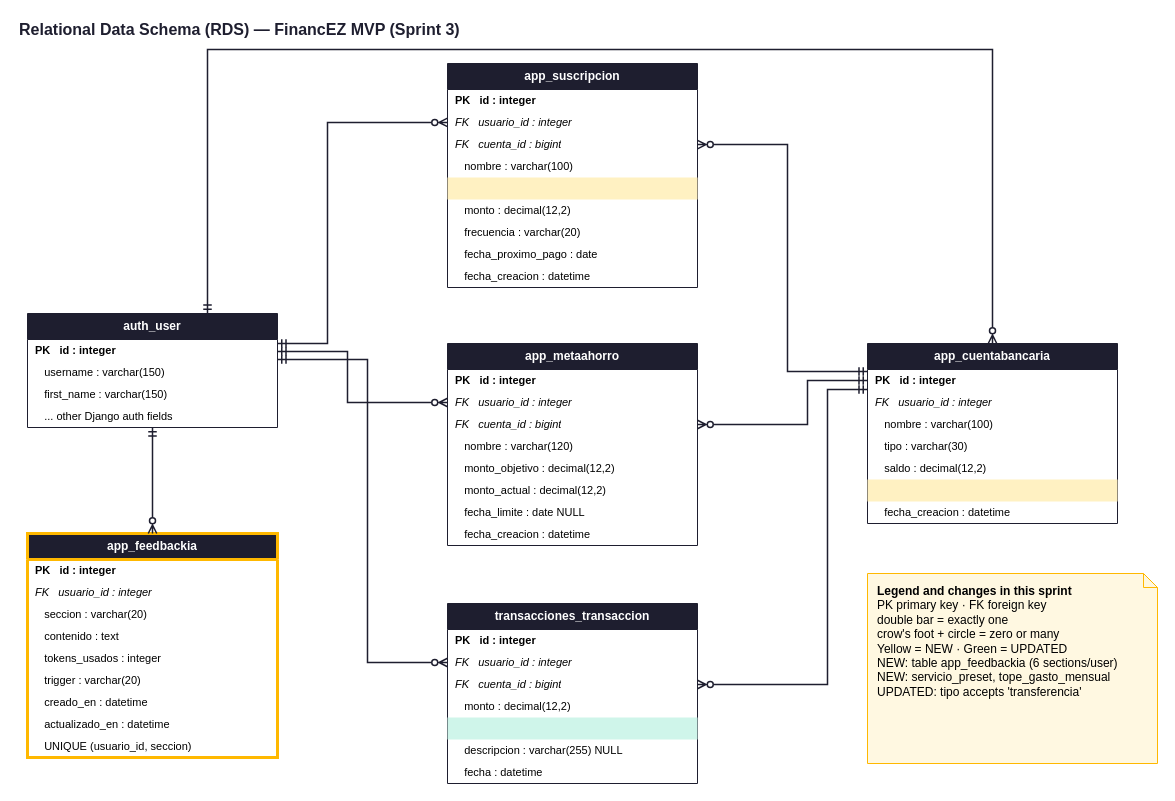
Image size: 1175x801. Some labels were removed from this diagram. Here are the shapes that lost their labels. From the top down, the centre of each, then its label:
the point at 572,188: servicio_preset : varchar(50)
the point at 992,490: tope_gasto_mensual : decimal(12,2)
the point at 572,728: tipo : varchar(20)
